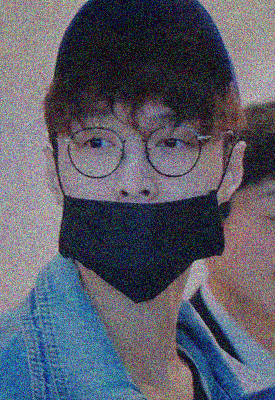mask_weared_incorrect: (57, 107, 227, 304)
